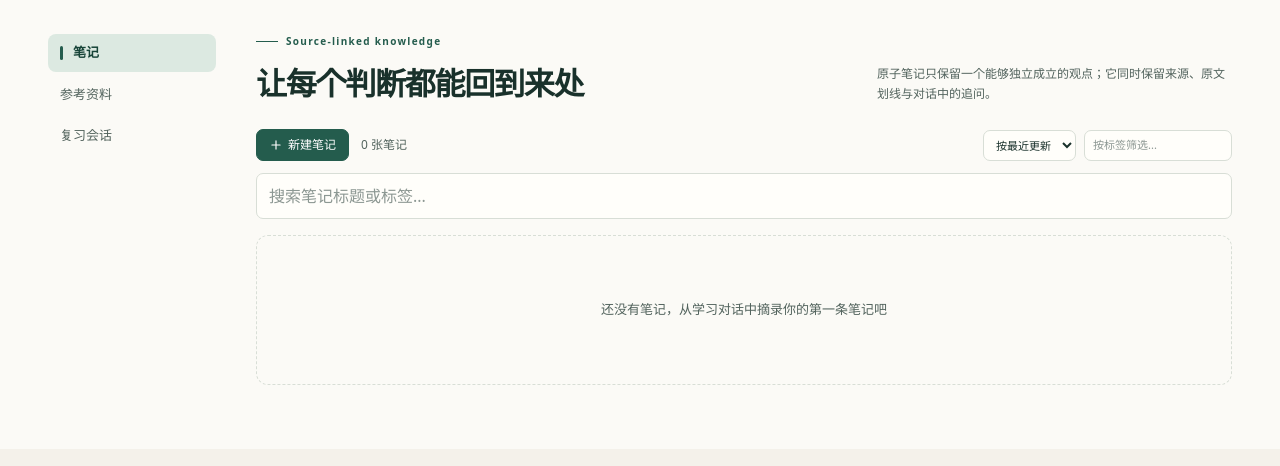
NotesPage › 点击「复习会话」携带 tab query 并展示复习会话列表
Click the button with class "sidebar-item" showing "复习会话".
click(132, 136)  # box [48,117,216,154]
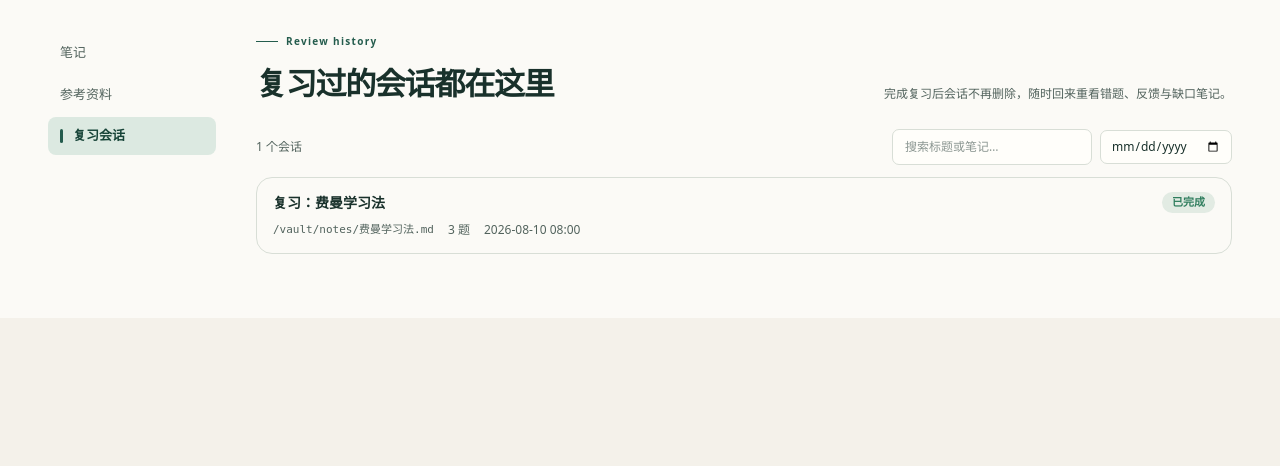
Expected: the text "复习：费曼学习法" is shown, [273,192,385,213]
Expected: the text "已完成" is shown, [1162,192,1215,213]
